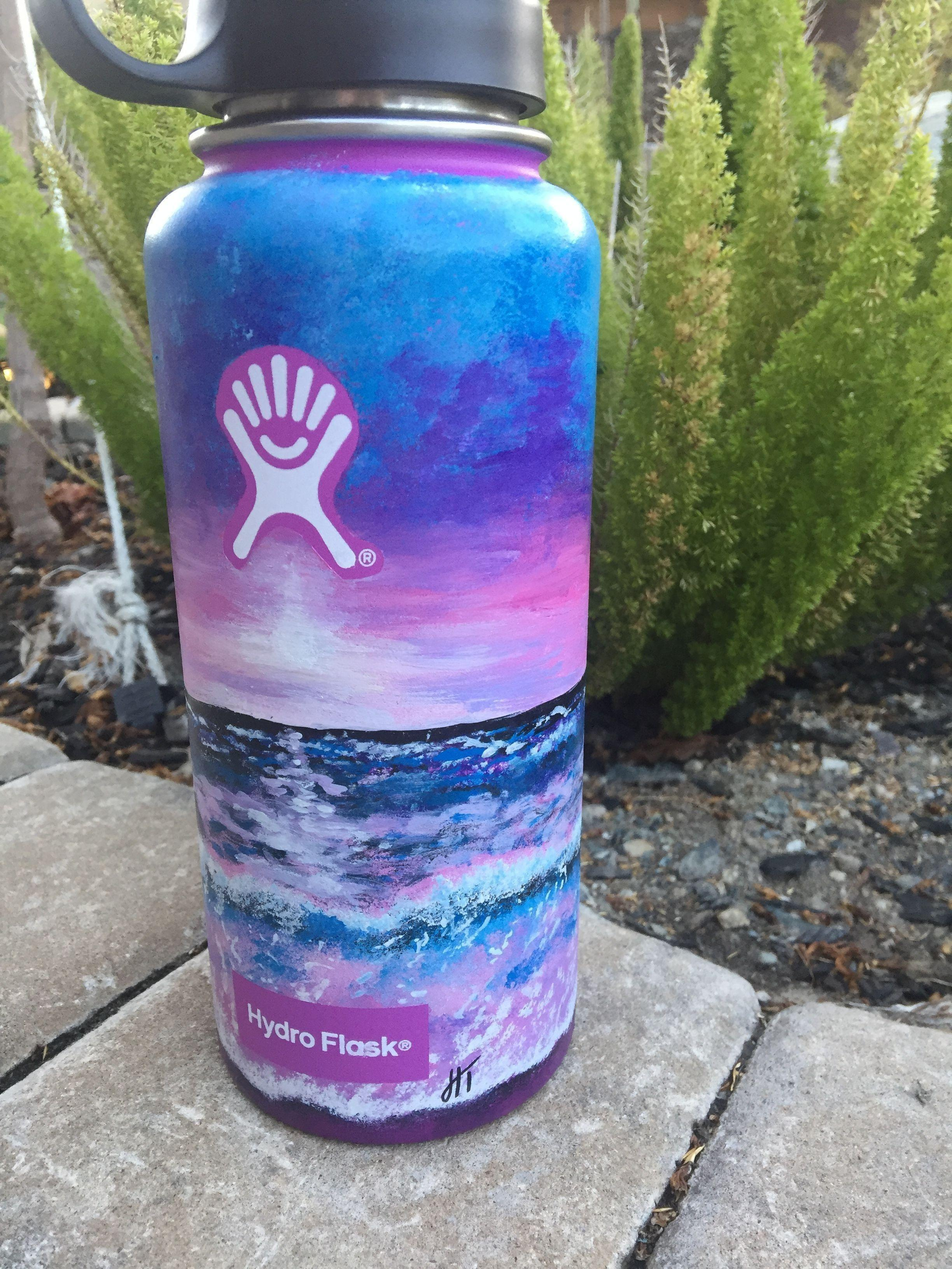gym bottle: (136, 0, 608, 1146)
